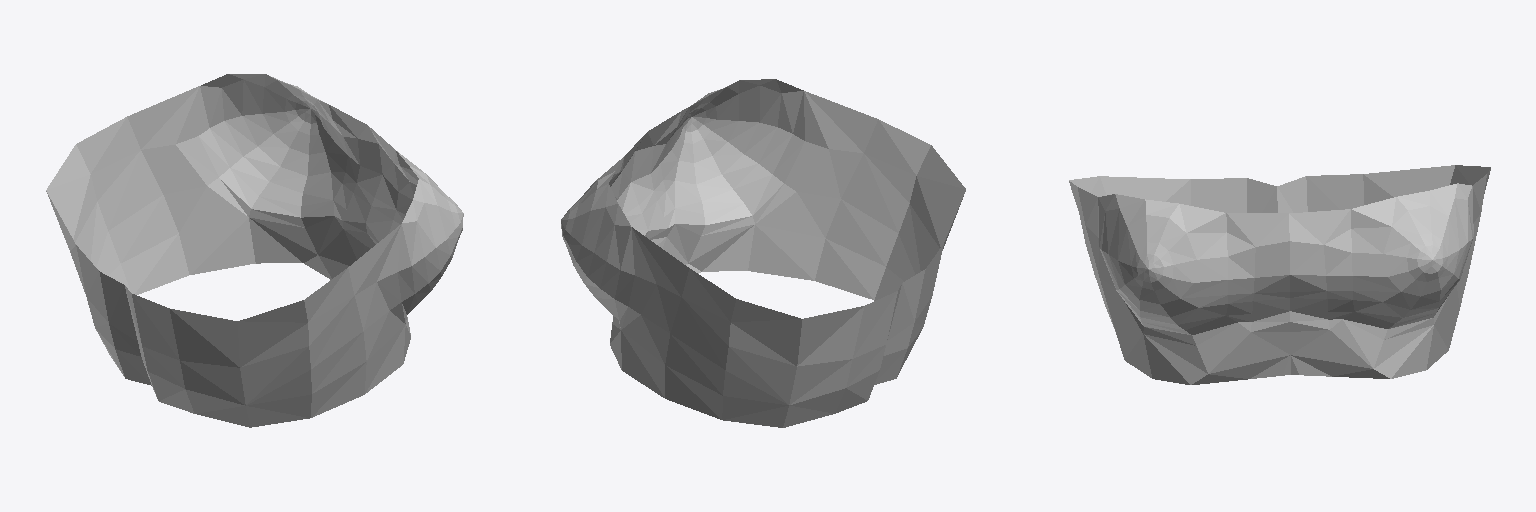
The model's file is Bbra.obj.
3 views of the same model, side by side, from view 1: azimuth 30°, elevation 25°; view 2: azimuth 150°, elevation 25°; view 3: azimuth 270°, elevation 25° (orthographic).
Visible parts, largest first — view 1: mesh_Mesh.013; view 2: mesh_Mesh.013; view 3: mesh_Mesh.013.
Boxes of the visible parts, box(x1,y1,x2,y2) form: mesh_Mesh.013: box(46, 74, 463, 427); mesh_Mesh.013: box(561, 79, 965, 427); mesh_Mesh.013: box(1069, 165, 1490, 384).
Bounding box in the file's own units: 2.2 × 1.57 × 2.82.